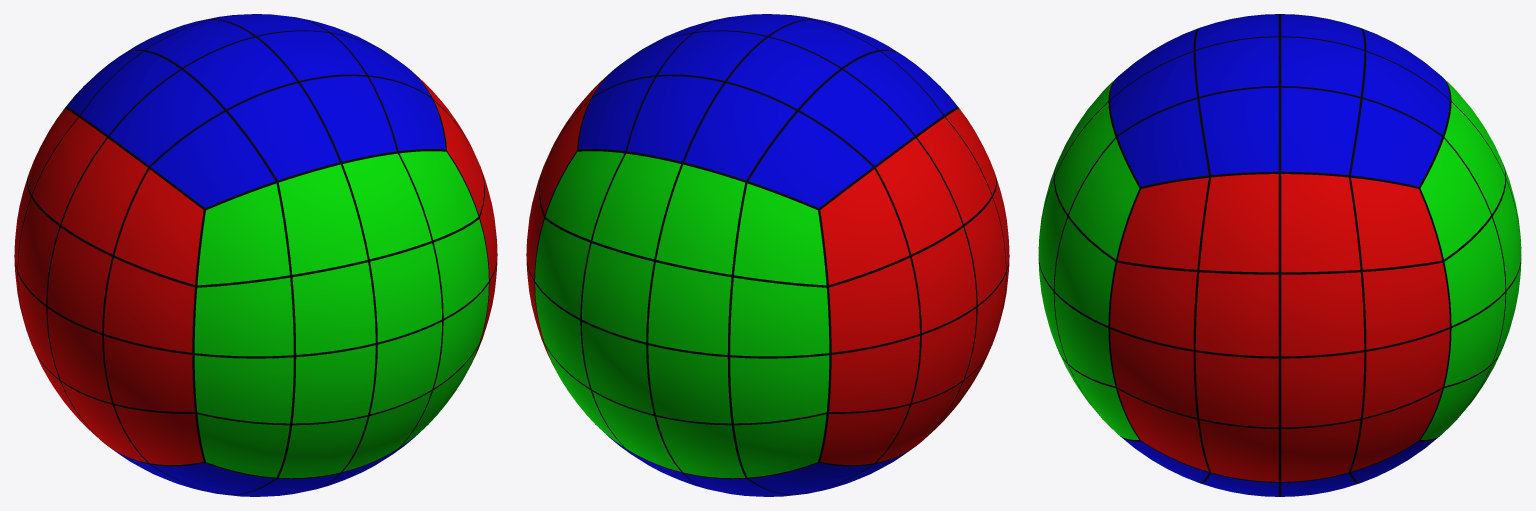
File: CubicSphere.fbx
3 views of the same model, side by side, from view 1: azimuth 30°, elevation 25°; view 2: azimuth 150°, elevation 25°; view 3: azimuth 270°, elevation 25° (orthographic).
Parts seen in each view (by area): view 1: Cubic Sphere; view 2: Cubic Sphere; view 3: Cubic Sphere.
Part boxes in pixels (x1=…): Cubic Sphere: x1=14, y1=14, x2=497, y2=496; Cubic Sphere: x1=526, y1=14, x2=1009, y2=496; Cubic Sphere: x1=1038, y1=14, x2=1521, y2=496.
Size of the model in its own units: 200 by 200 by 200.
